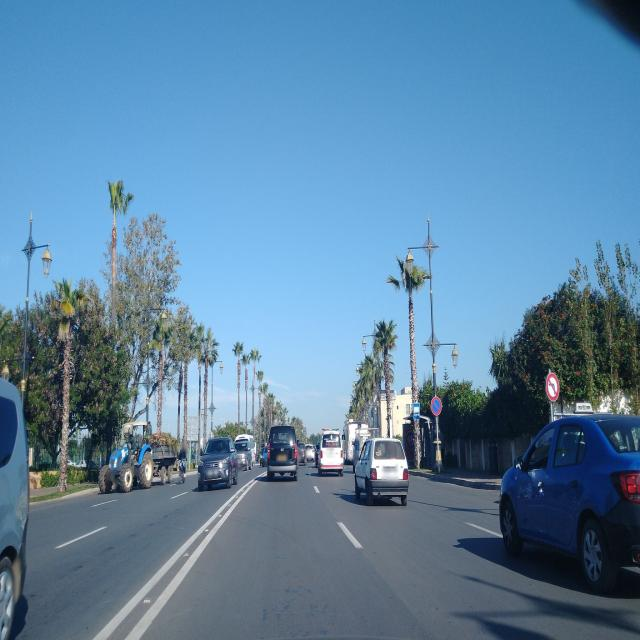forb_stopping: (431, 397, 442, 415)
